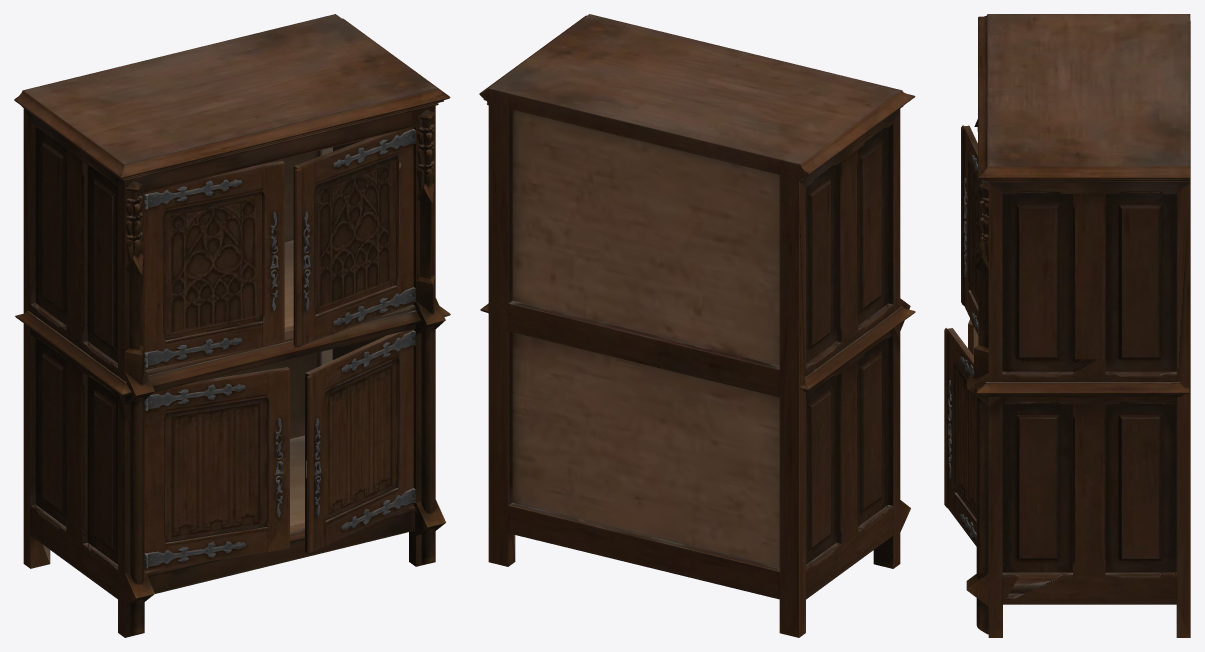
The model's file is gothiccabinet-01.glb.
3 renders of one model, left to right at view 1: azimuth 30°, elevation 25°; view 2: azimuth 150°, elevation 25°; view 3: azimuth 270°, elevation 25°, orthographic.
Parts seen in each view (by area): view 1: gothiccabinet_01; view 2: gothiccabinet_01; view 3: gothiccabinet_01.
Part boxes in pixels (x1=…): gothiccabinet_01: x1=14, y1=14, x2=450, y2=637; gothiccabinet_01: x1=479, y1=14, x2=915, y2=637; gothiccabinet_01: x1=944, y1=14, x2=1190, y2=637.
Size of the model in its own units: 1.72 by 2.36 by 1.12.
1 material, 1 textured.
